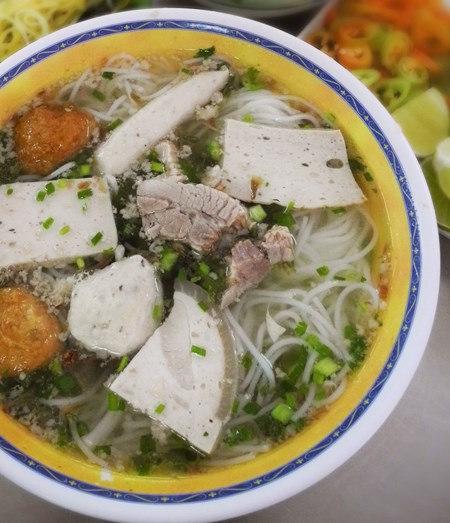chamoc: (224, 116, 369, 211), (1, 171, 115, 269), (69, 256, 166, 353)
pork: (136, 169, 265, 276)
